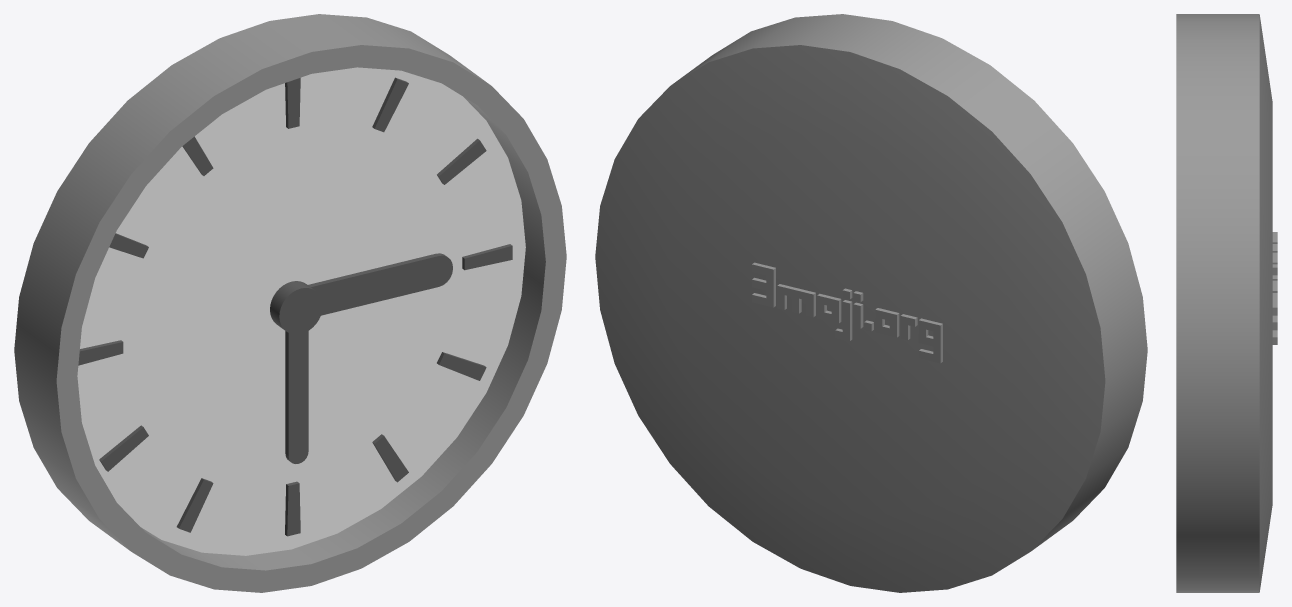
Rendered from three_thirty.glb.
3 renders of one model, left to right at view 1: azimuth 30°, elevation 25°; view 2: azimuth 150°, elevation 25°; view 3: azimuth 270°, elevation 25°, orthographic.
Visible parts, largest first — view 1: Circle.2450; view 2: Circle.2450; view 3: Circle.2450.
Boxes of the visible parts, box(x1,y1,x2,y2) form: Circle.2450: box(14, 14, 566, 592); Circle.2450: box(595, 14, 1147, 592); Circle.2450: box(1176, 14, 1277, 592).
Bounding box in the file's own units: 2.33 × 2.33 × 0.4069.
Materials: 1 (1 with a texture image).
